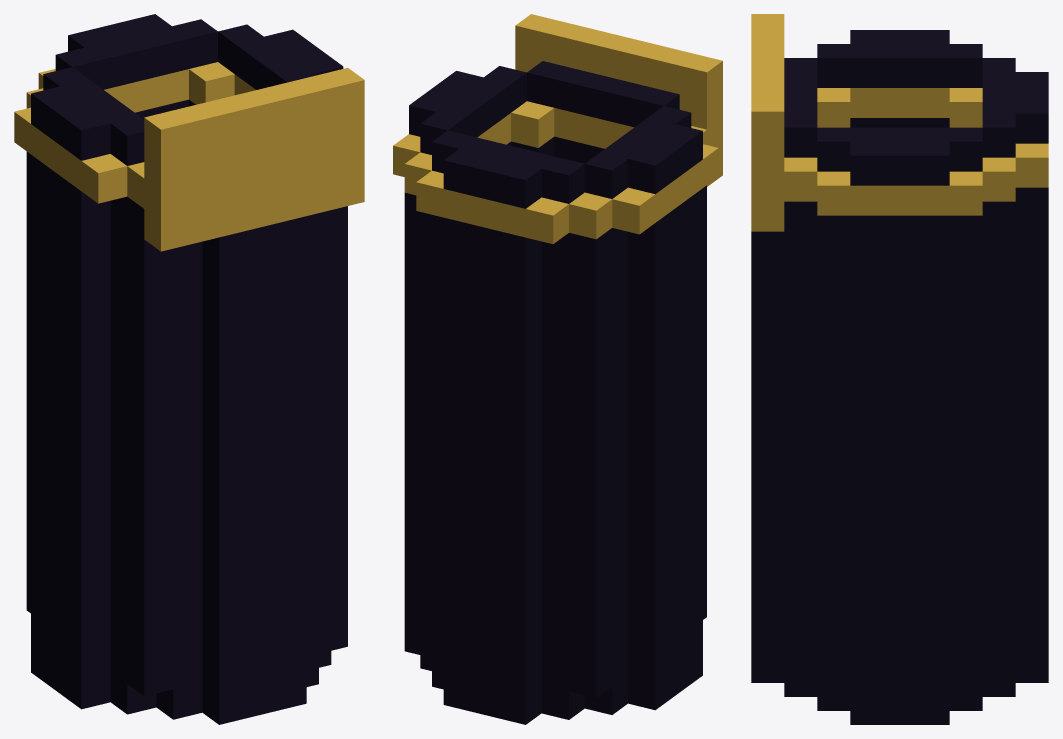
Rendered from mystic_legendary_leg_L_lod1.glb.
3 renders of one model, left to right at view 1: azimuth 30°, elevation 25°; view 2: azimuth 150°, elevation 25°; view 3: azimuth 270°, elevation 25°, orthographic. The views are drawn at different scales.
Parts seen in each view (by area): view 1: mystic_legendary_leg_L_lod1; view 2: mystic_legendary_leg_L_lod1; view 3: mystic_legendary_leg_L_lod1.
Boxes of the visible parts, left/top/right/bottom form: mystic_legendary_leg_L_lod1: left=14, top=14, right=364, bottom=724; mystic_legendary_leg_L_lod1: left=393, top=14, right=722, bottom=724; mystic_legendary_leg_L_lod1: left=751, top=14, right=1048, bottom=724.
Size of the model in its own units: 0.216 by 0.48 by 0.216.
